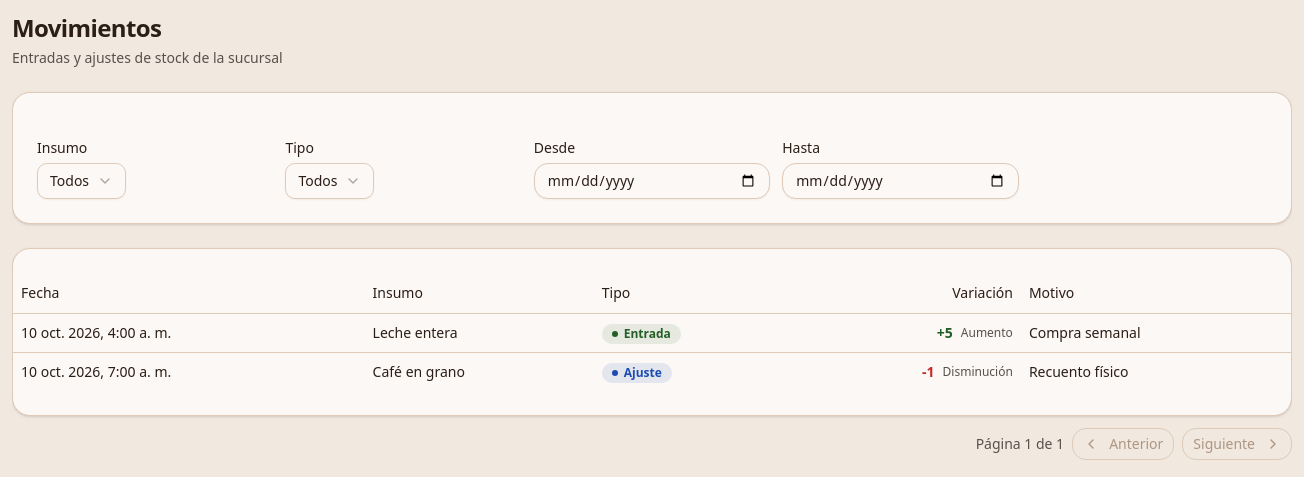
Test: Movimientos de stock › filtra por tipo de movimiento
Expected: the text "Leche entera" is shown, [365, 313, 594, 352]
What coordinates should you click on to do the following:
click the dropdown named "Tipo"
I would click on:
 (330, 181)
Its box is [285, 163, 374, 199].
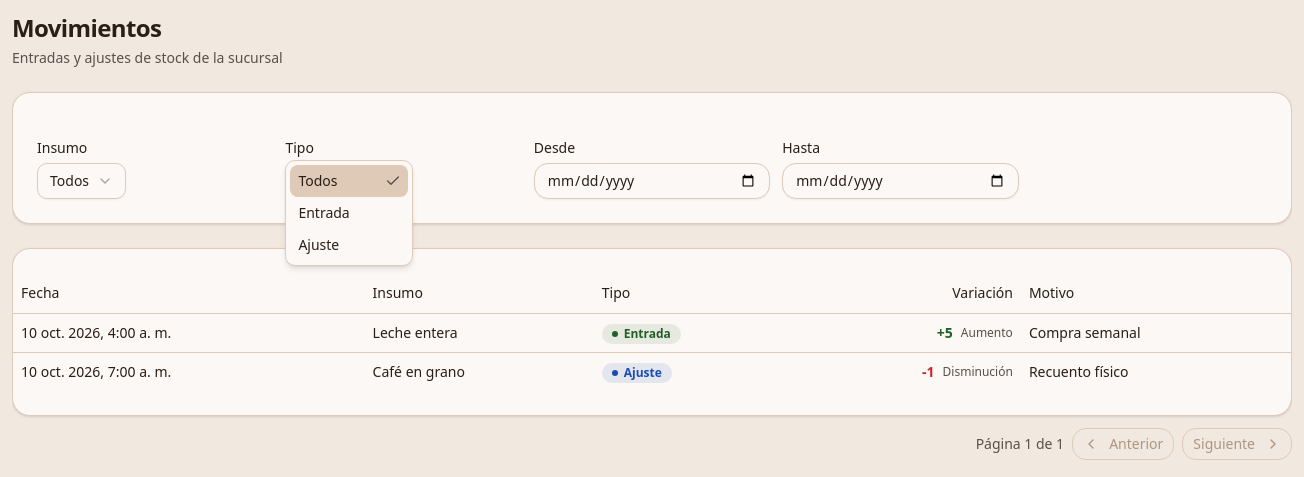
What coordinates should you click on to do the following:
click the option "Ajuste"
I would click on:
 (319, 244)
Its box is [298, 235, 339, 254].
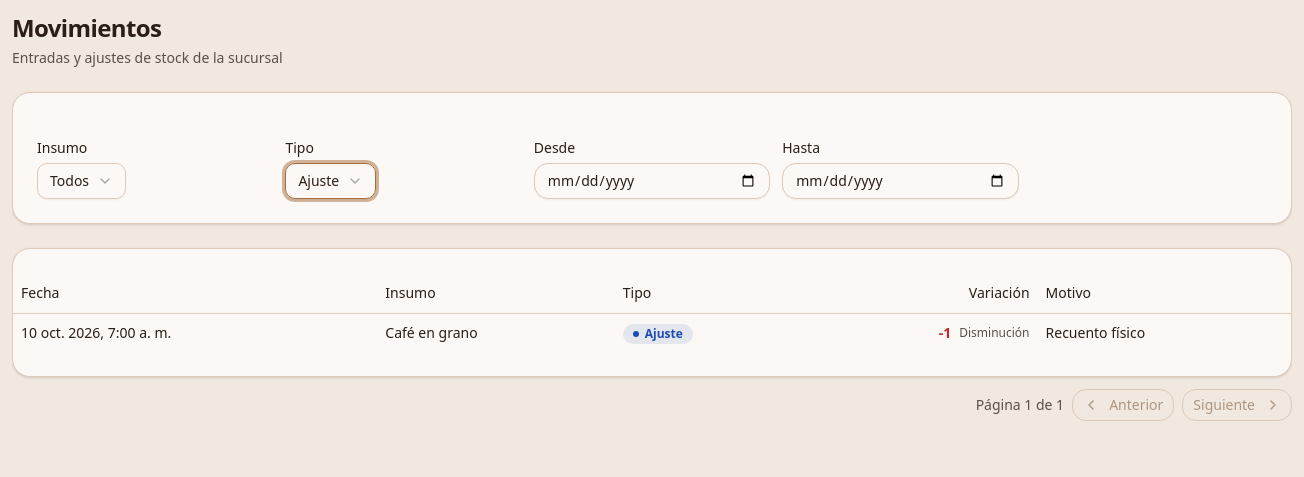
Expected: the text "Café en grano" is shown, [377, 313, 615, 352]
Now the text "Leche entera" is gone
